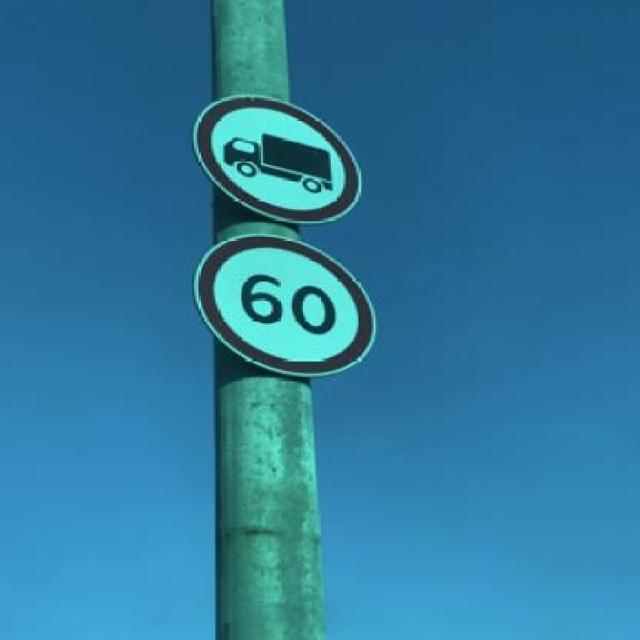forb_speed_over_60: (203, 233, 377, 378)
